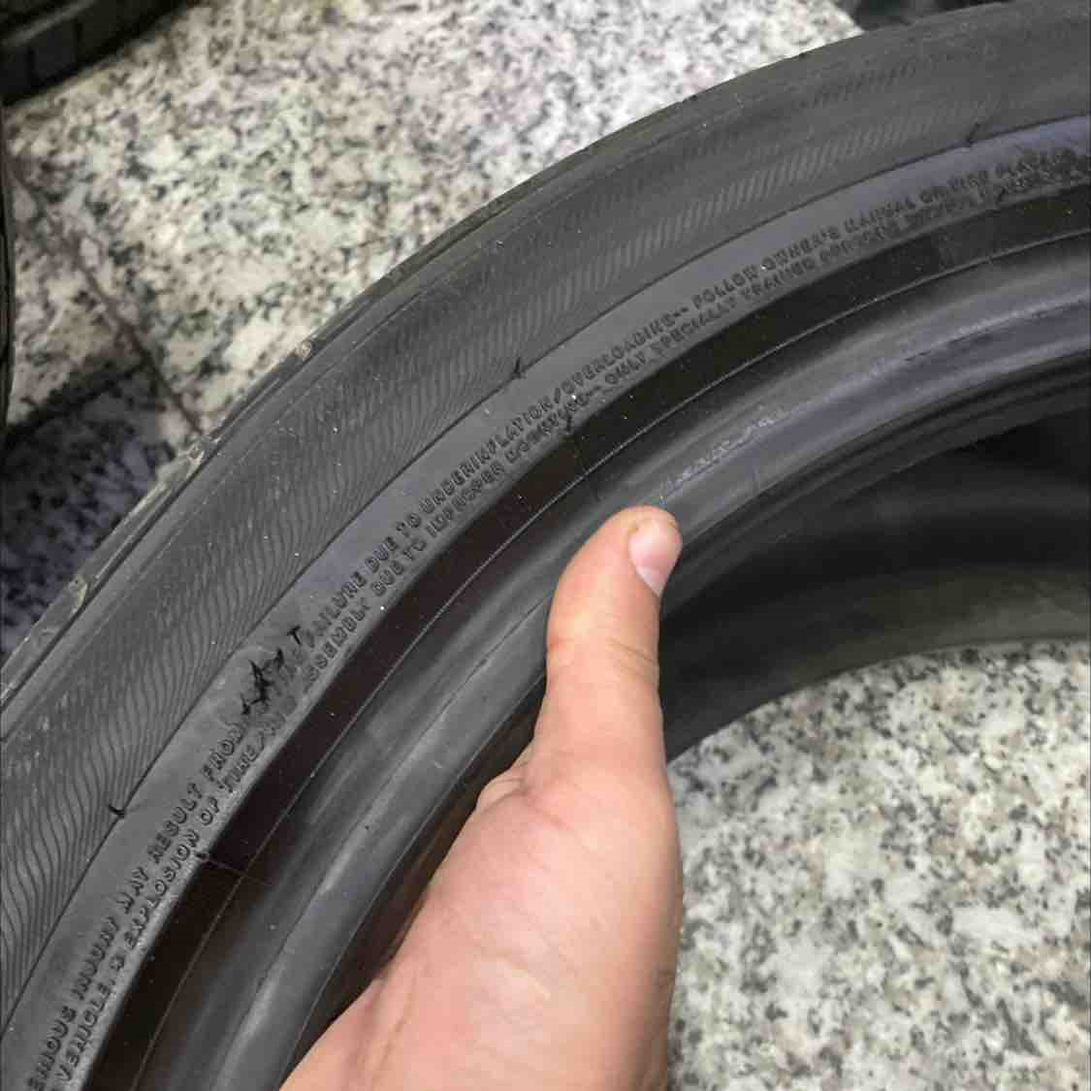cut: (241, 620, 294, 723)
